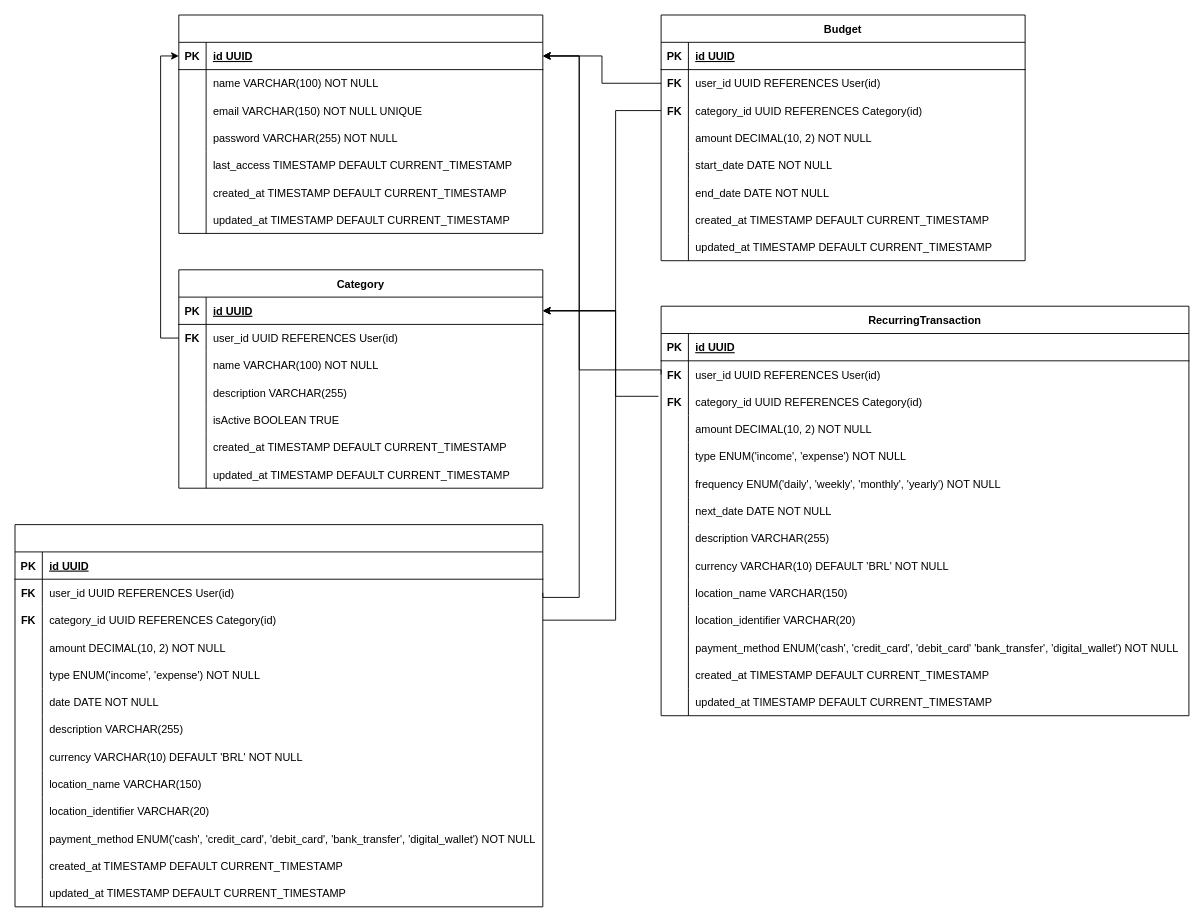
This 1204x922 diagram has some shape labels left out. Here are the shapes that lost their labels. From the top down, the box of each, then its label:
(178, 14, 543, 233): User
(14, 524, 543, 907): Transaction
